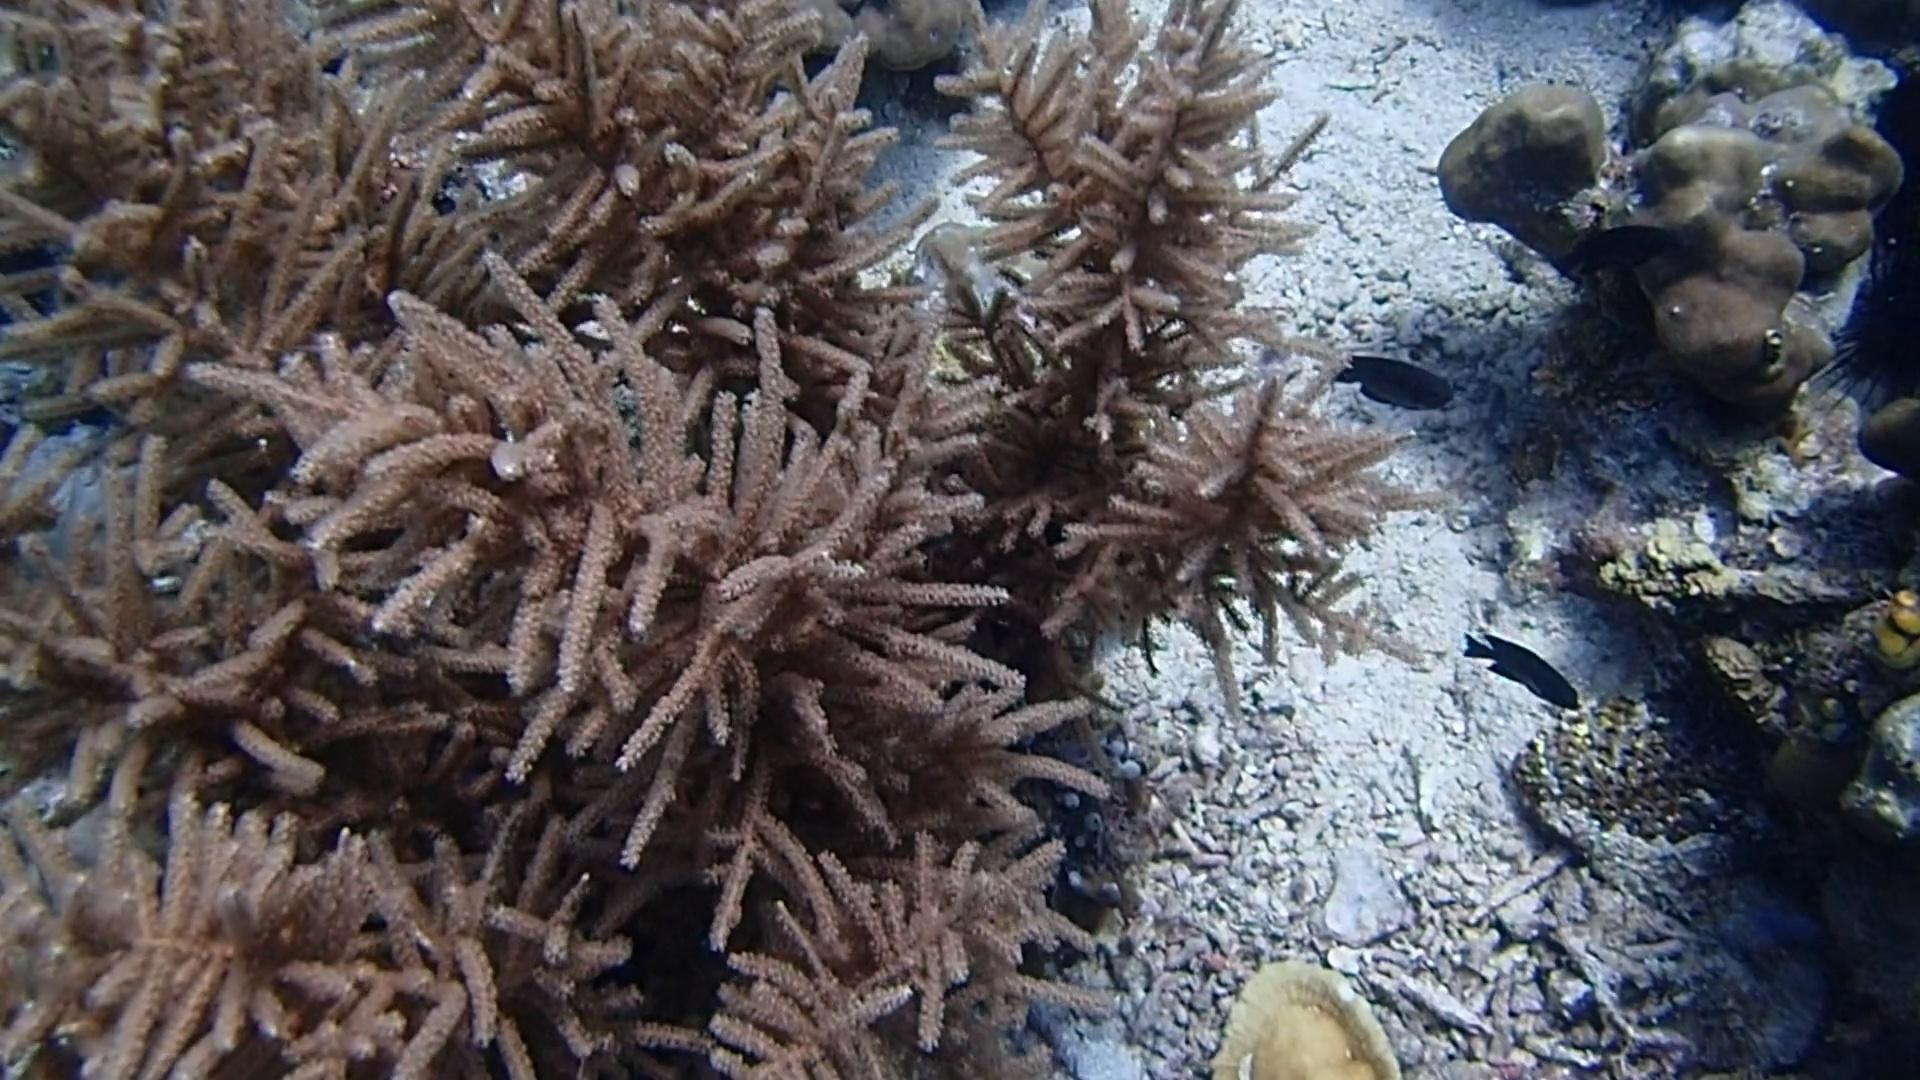Dark Fish: (1453, 621, 1589, 725), (1323, 343, 1458, 426), (1556, 212, 1675, 291)
